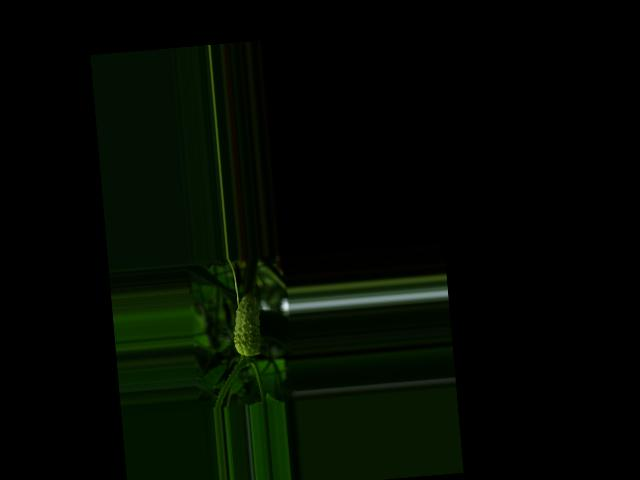cucumber: (229, 290, 262, 357)
